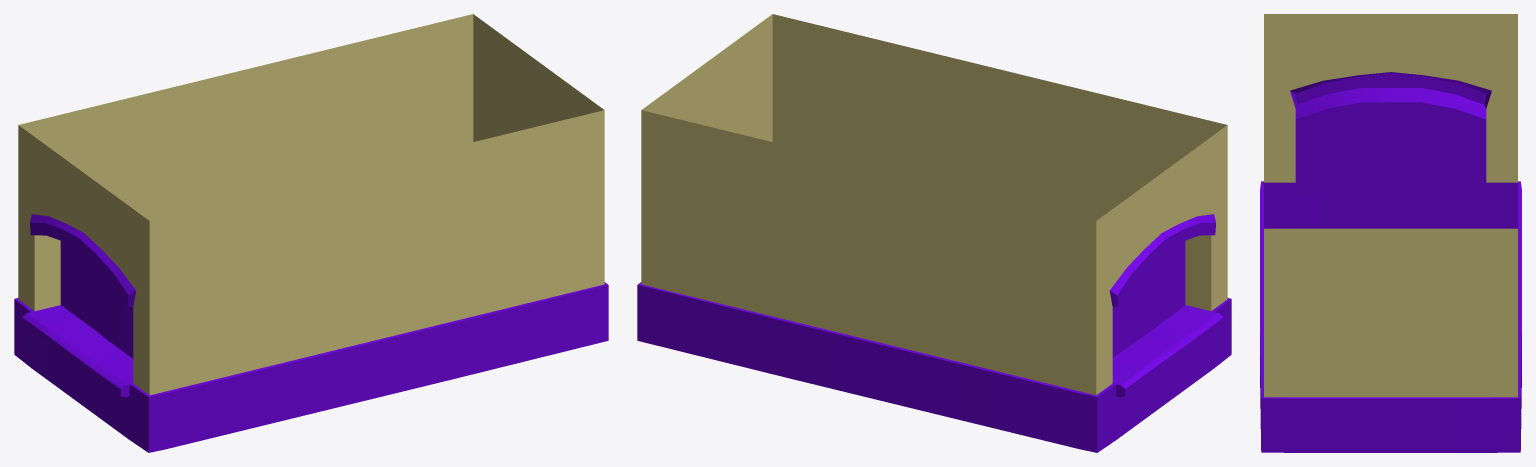
The model's file is Bottom.fbx.
3 views of the same model, side by side, from view 1: azimuth 30°, elevation 25°; view 2: azimuth 150°, elevation 25°; view 3: azimuth 270°, elevation 25° (orthographic). The views are drawn at different scales.
Visible parts, largest first — view 1: TallHouse.029; view 2: TallHouse.029; view 3: TallHouse.029.
Part boxes in pixels (x1=…): TallHouse.029: x1=14, y1=14, x2=608, y2=452; TallHouse.029: x1=637, y1=14, x2=1231, y2=452; TallHouse.029: x1=1260, y1=14, x2=1521, y2=452.
Bounding box in the file's own units: 8.28 × 3.87 × 4.12.
